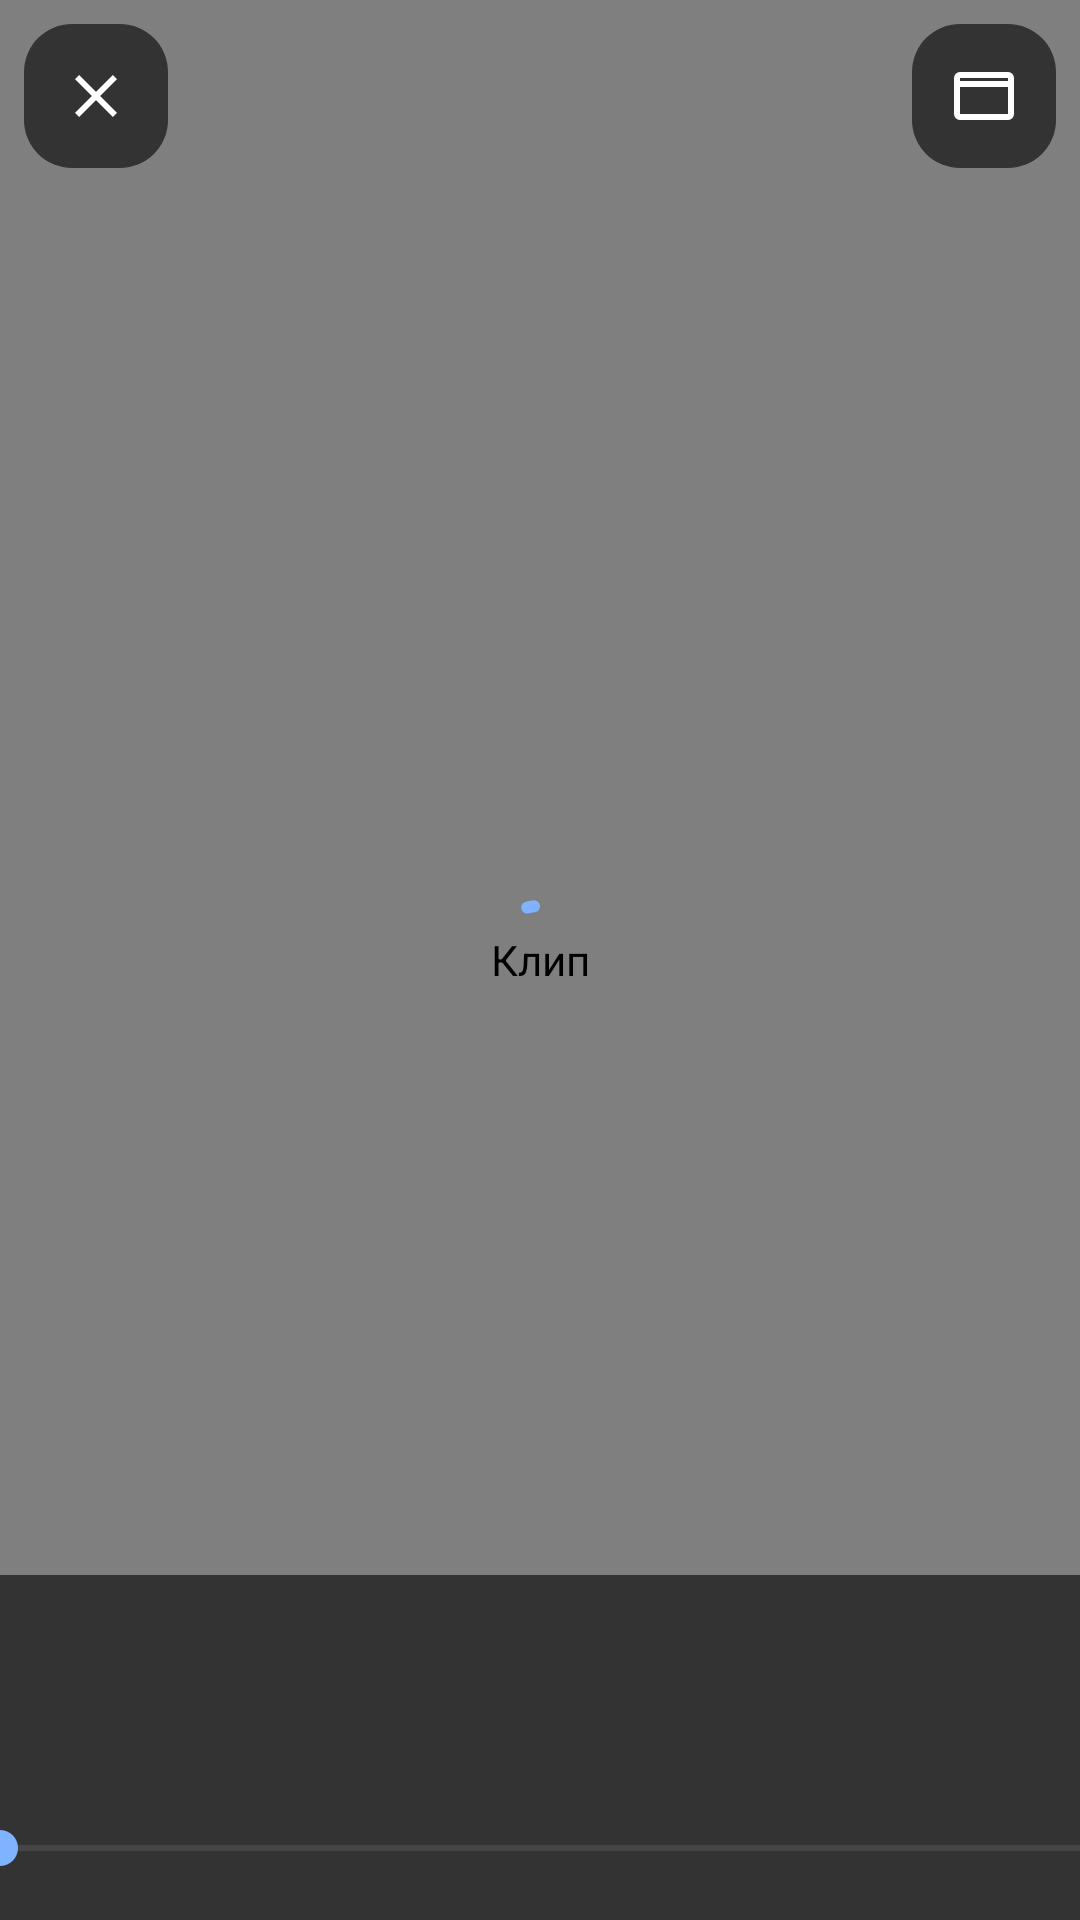

Icon bounding boxes for this 1080px x 1920px phone screenshot, format region(x1, y1, x2, y2):
Закрыть: region(24, 24, 168, 168)
Открыть на странице VK: region(912, 24, 1056, 168)
